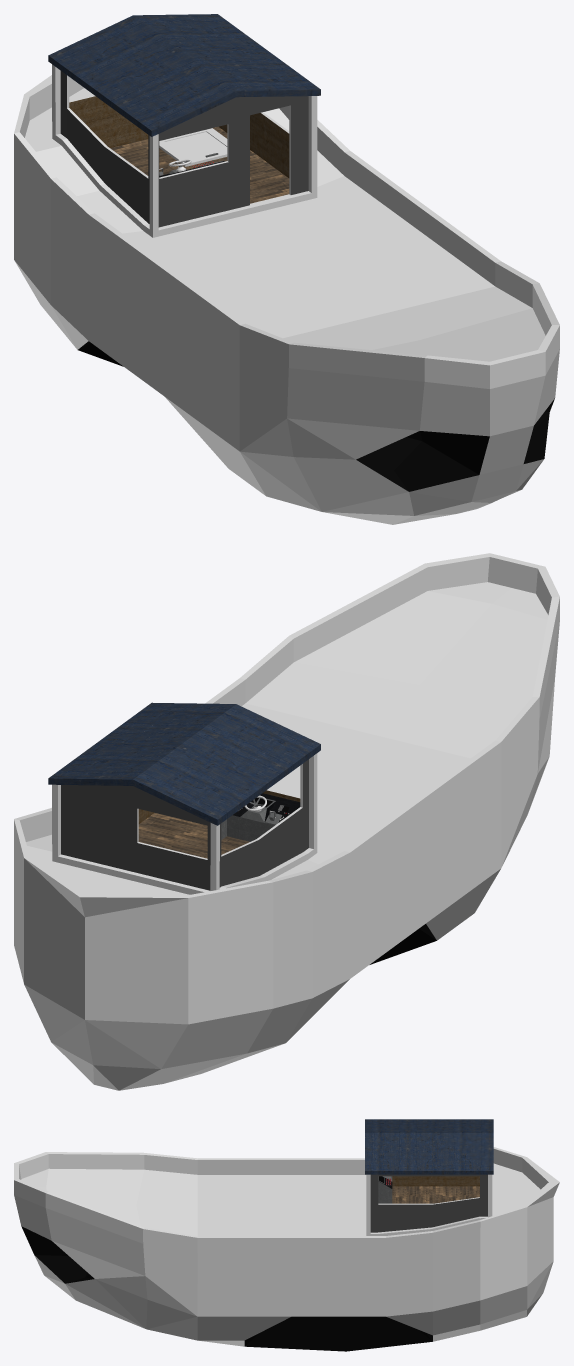
File: ShipMonster.fbx
3 renders of one model, top to bottom at view 1: azimuth 30°, elevation 25°; view 2: azimuth 150°, elevation 25°; view 3: azimuth 270°, elevation 25°, orthographic. The views are drawn at different scales.
Parts seen in each view (by area): view 1: StatekG, StatekG Domek, Klapa; view 2: StatekG, StatekG Domek, Pulpit kontrolny; view 3: StatekG, StatekG Domek, Pulpit kontrolny.
Boxes of the visible parts, <box> form: StatekG: <box>14,75,559,524</box>; StatekG Domek: <box>48,14,320,237</box>; Klapa: <box>159,128,227,166</box>; StatekG: <box>14,553,559,1090</box>; StatekG Domek: <box>48,702,320,894</box>; Pulpit kontrolny: <box>221,793,300,841</box>; StatekG: <box>14,1147,559,1351</box>; StatekG Domek: <box>365,1119,493,1235</box>; Pulpit kontrolny: <box>378,1176,392,1203</box>.
Bounding box in the file's own units: 500 × 622 × 1450.
